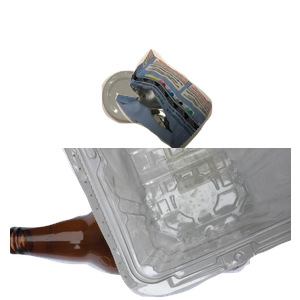glass: (10, 188, 250, 300)
metal: (99, 68, 244, 184)
plastic: (60, 148, 300, 300)
trash: (113, 46, 300, 189)
